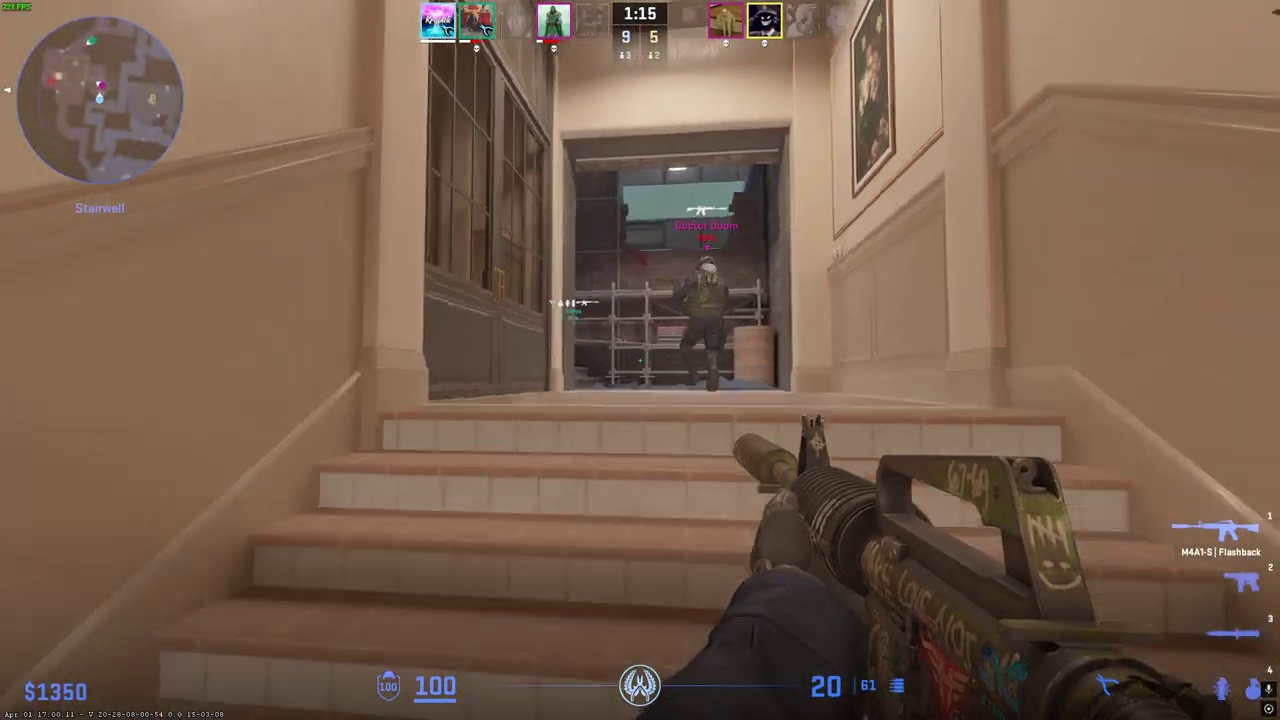CT: (677, 255, 731, 389)
